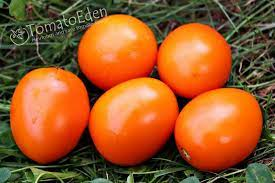tomato: (181, 84, 275, 183), (69, 9, 155, 96), (11, 63, 86, 159), (101, 68, 163, 167), (161, 14, 223, 91)
